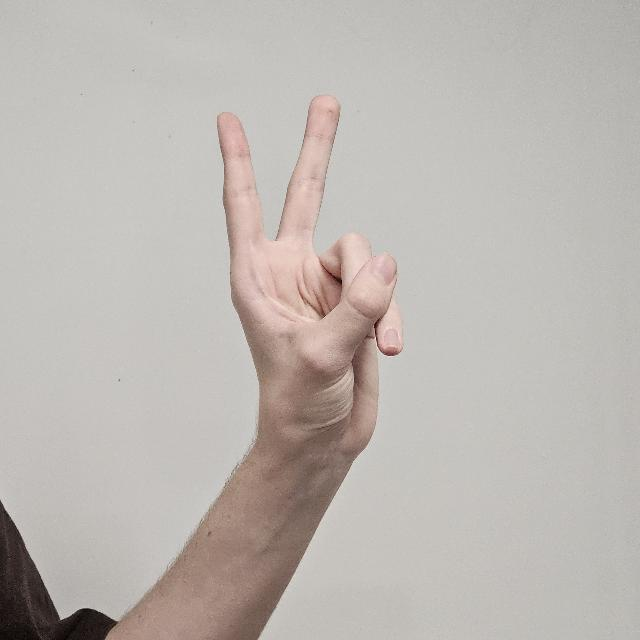Triangulo: (196, 93, 448, 529)
